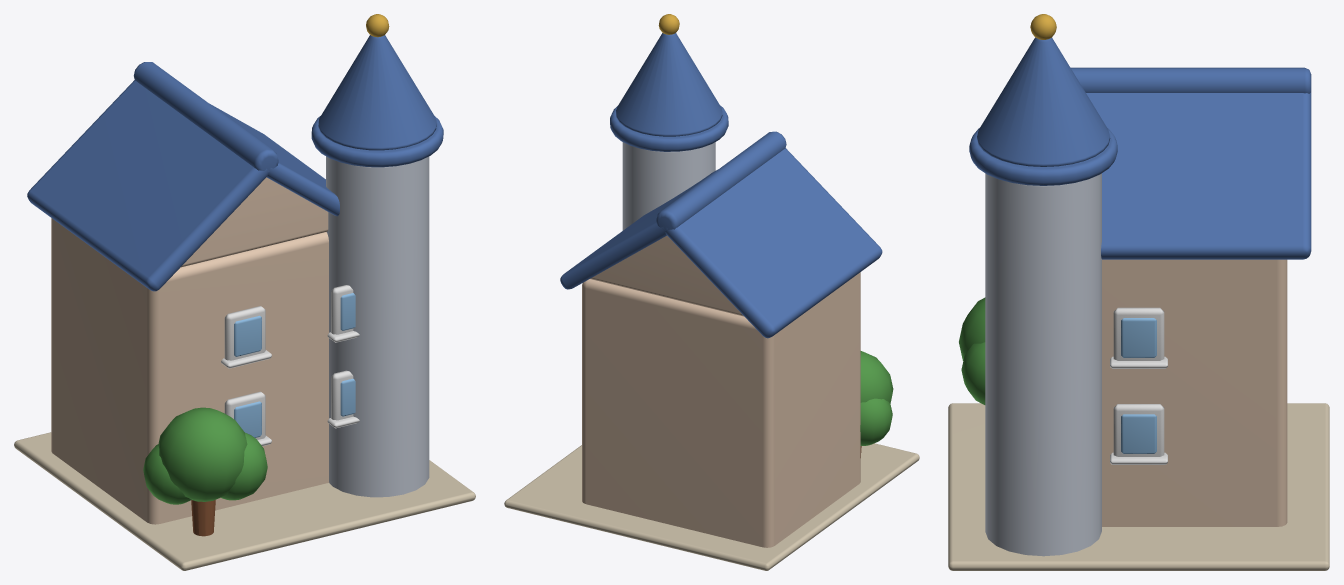
3 views of the same model, side by side, from view 1: azimuth 30°, elevation 25°; view 2: azimuth 150°, elevation 25°; view 3: azimuth 270°, elevation 25° (orthographic). The views are drawn at different scales.
Parts seen in each view (by area): view 1: Cube; view 2: Cube; view 3: Cube.
Part boxes in pixels (x1,y1,x2,y2): Cube: [14, 14, 475, 570]; Cube: [504, 14, 919, 570]; Cube: [948, 14, 1329, 570].
Bounding box in the file's own units: 0.72 × 1.1 × 0.72.
